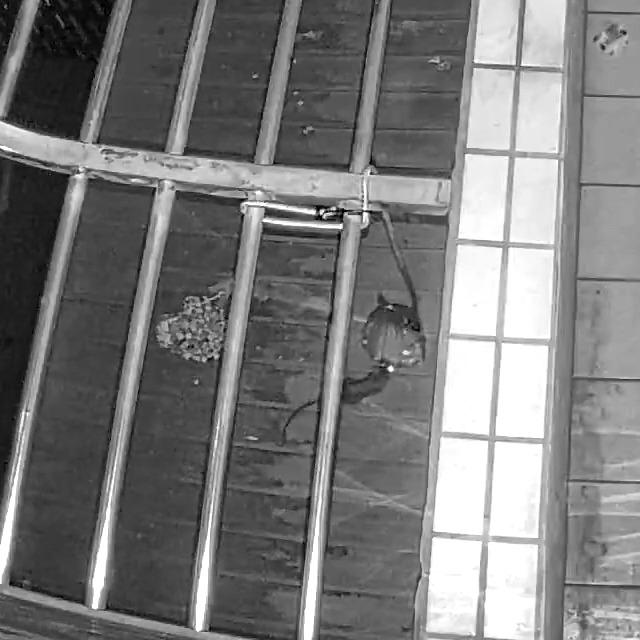rat: (280, 357, 394, 444)
